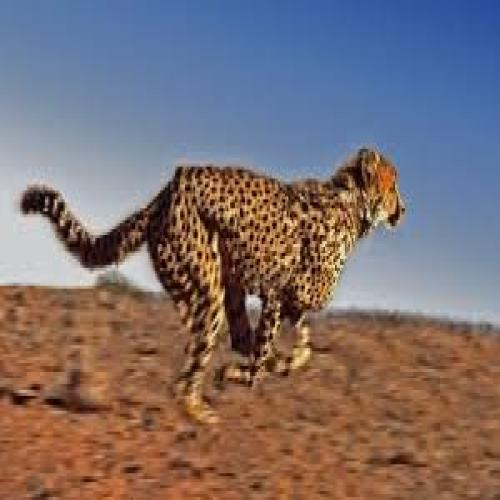cheetah-endangered: (25, 147, 403, 400)
